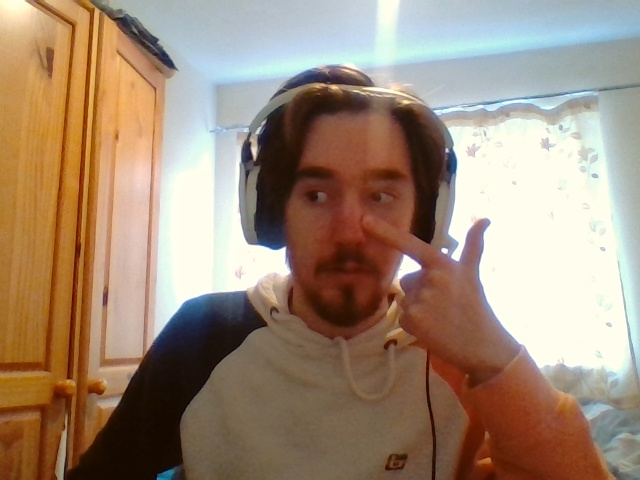luck: (361, 211, 490, 342)
